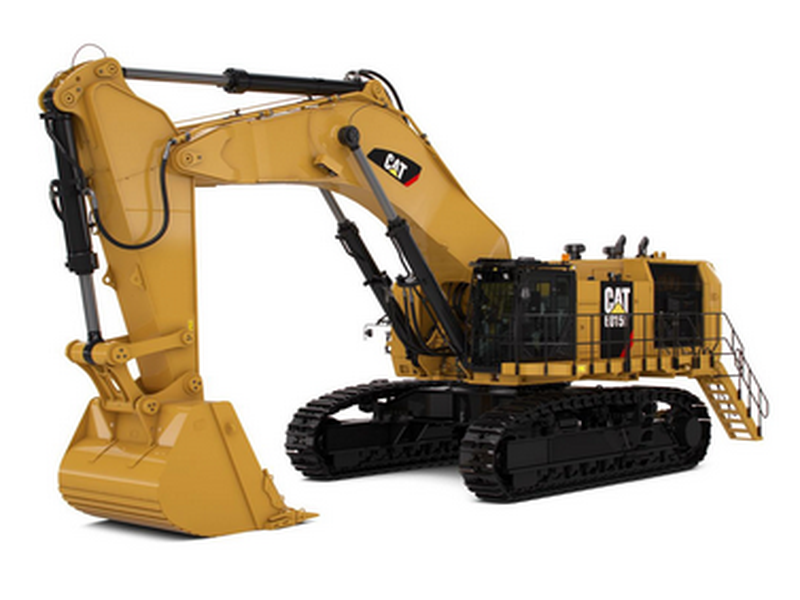shovel: (33, 36, 780, 539)
